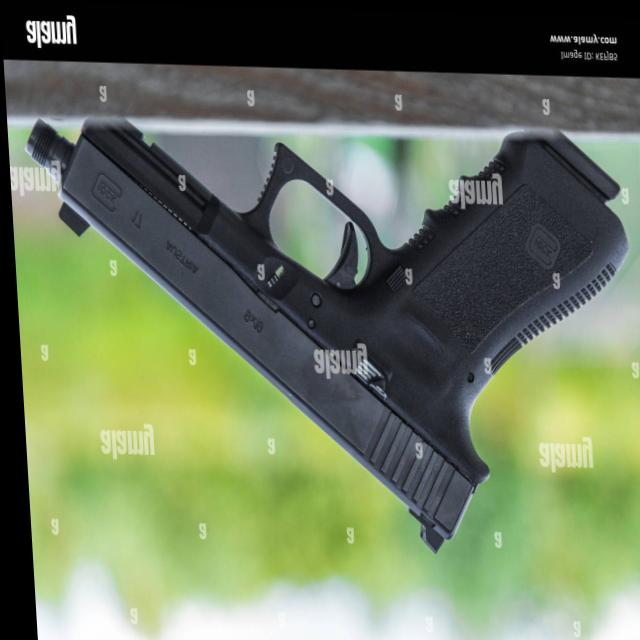handgun: (17, 104, 640, 560)
